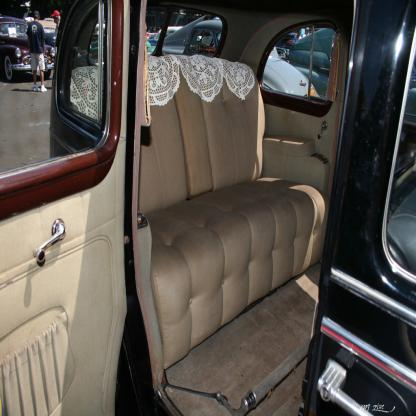Car: (1, 1, 416, 416), (159, 19, 318, 93), (1, 19, 58, 81)
